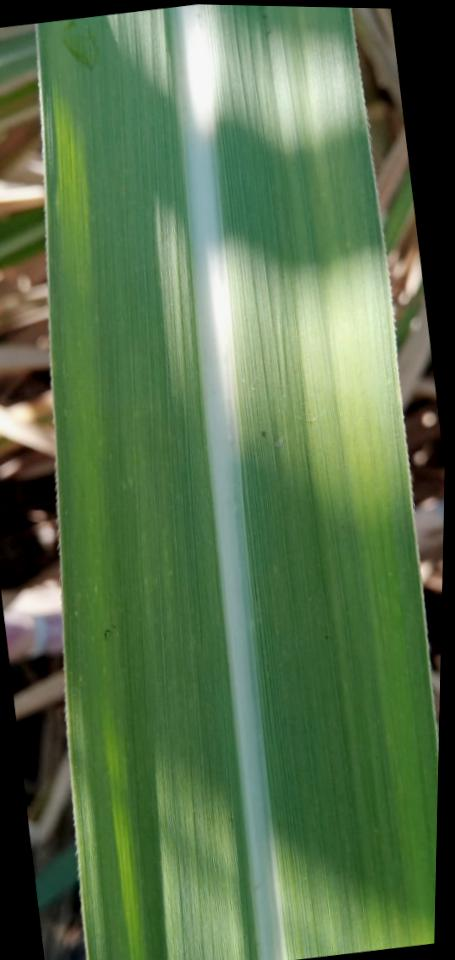Healthy: (35, 4, 438, 960)
